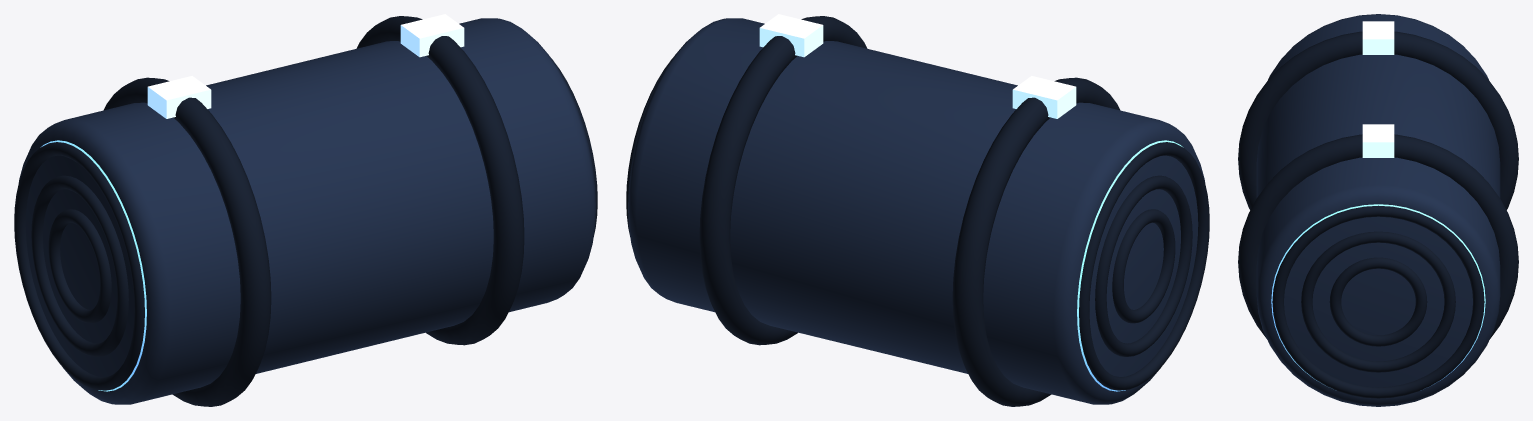
File: leder_moor.glb
3 views of the same model, side by side, from view 1: azimuth 30°, elevation 25°; view 2: azimuth 150°, elevation 25°; view 3: azimuth 270°, elevation 25° (orthographic). The views are drawn at different scales.
Visible parts, largest first — view 1: Cylinder, Torus.006, Torus.007, Torus, Torus.001, Torus.002, Cube.001, Cube, Torus.008; view 2: Cylinder, Torus.006, Torus.007, Torus, Torus.001, Torus.002, Cube.001, Cube, Torus.008; view 3: Cylinder, Torus.007, Torus.006, Torus.003, Torus.004, Torus.005, Cube, Cube.001, Torus.009.
Boxes of the visible parts, x1,y1,x2,y2 form: Cylinder: [18, 18, 595, 404]; Torus.006: [103, 77, 271, 406]; Torus.007: [356, 16, 524, 345]; Torus: [14, 142, 144, 390]; Torus.001: [31, 175, 128, 356]; Torus.002: [48, 209, 111, 323]; Cube.001: [400, 14, 464, 57]; Cube: [147, 76, 211, 118]; Torus.008: [40, 140, 146, 391]; Cylinder: [628, 18, 1205, 404]; Torus.006: [952, 77, 1120, 406]; Torus.007: [699, 16, 867, 345]; Torus: [1079, 142, 1209, 390]; Torus.001: [1095, 175, 1192, 356]; Torus.002: [1112, 209, 1175, 323]; Cube.001: [759, 14, 823, 57]; Cube: [1012, 76, 1076, 118]; Torus.008: [1077, 140, 1183, 391]; Cylinder: [1256, 14, 1500, 406]; Torus.007: [1238, 134, 1518, 338]; Torus.006: [1238, 31, 1518, 209]; Torus.003: [1272, 205, 1484, 398]; Torus.004: [1301, 231, 1455, 372]; Torus.005: [1329, 257, 1427, 346]; Cube: [1362, 21, 1394, 54]; Cube.001: [1362, 124, 1394, 157]; Torus.009: [1271, 204, 1485, 385].
Size of the model in its own units: 0.31 by 0.197 by 0.196.
